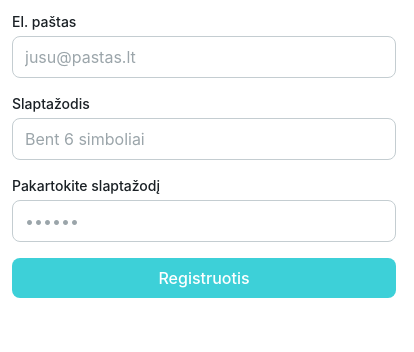
RegisterForm › shows server error when signUp fails
Type "test@test.com" into the field labelled "El. paštas".
click(204, 57); type("test@test.com")  # box [12,36,396,78]
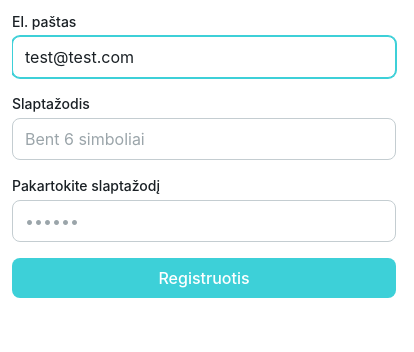
Type "password123" into the password field labelled "Slaptažodis".
click(204, 139); type("password123")  # box [12,118,396,160]
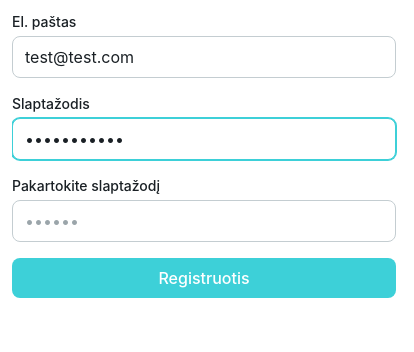
Type "password123" into the password field labelled "Pakartokite slaptažodį".
click(204, 221); type("password123")  # box [12,200,396,242]
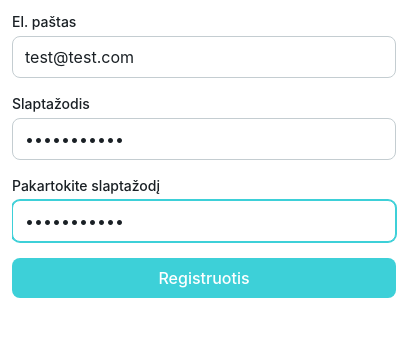
Click the button "Registruotis".
click(204, 278)  # box [12,258,396,298]
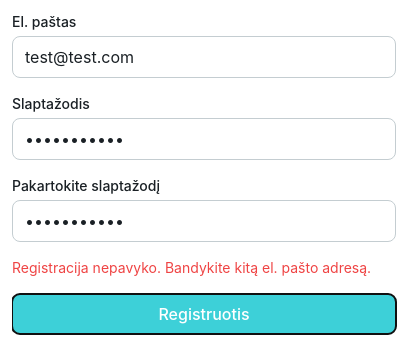
Check: the text "Registracija nepavyko. Bandykite kitą el. pašto adresą." is shown, box [12,258,396,278]
